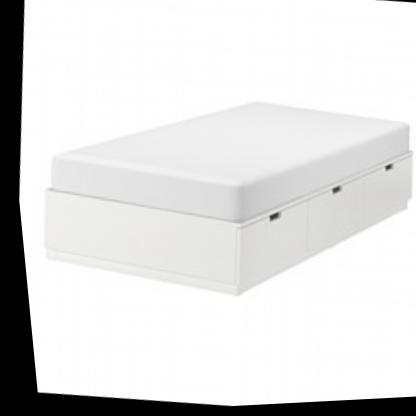Bed: (11, 39, 416, 337)
